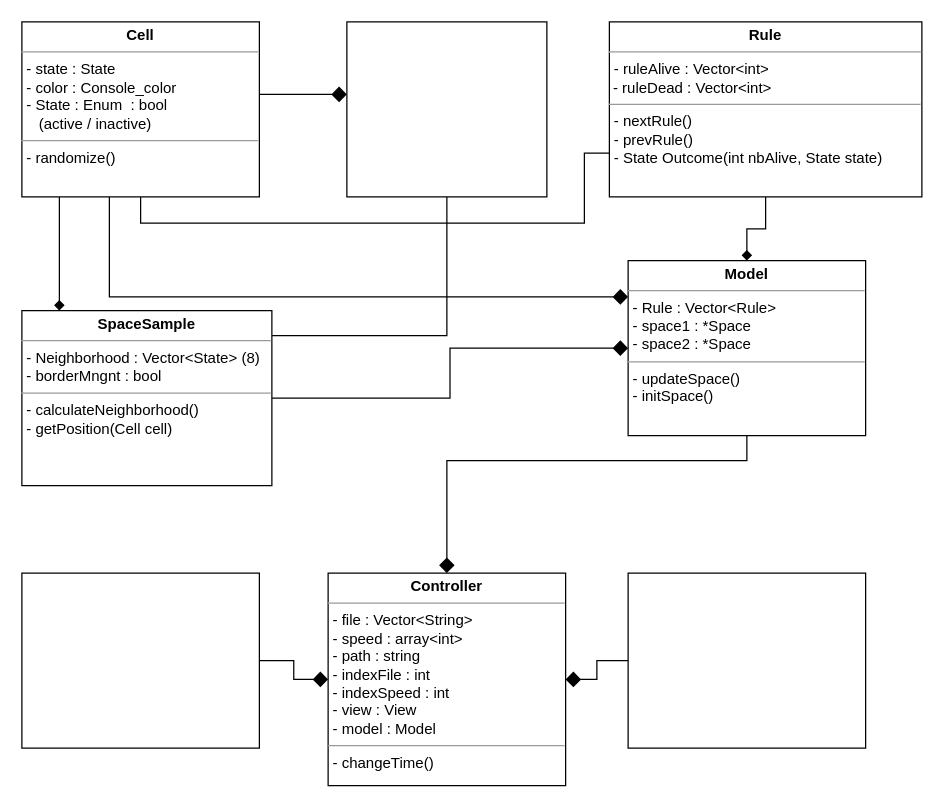
Image size: 944x808. Some labels were removed from this diagram. The shapes that lost their labels are listed below. From the top down, each one's box as (x1, y1, x2, y2) in pixels, then its label:
(346, 21, 547, 197): Space - space : Vector<State> - width : int - height : int - randomize()
(21, 572, 259, 748): Lecteur RLE + +
(627, 572, 866, 748): Vue - console : Console - colorBg : string - colorFg: string +
